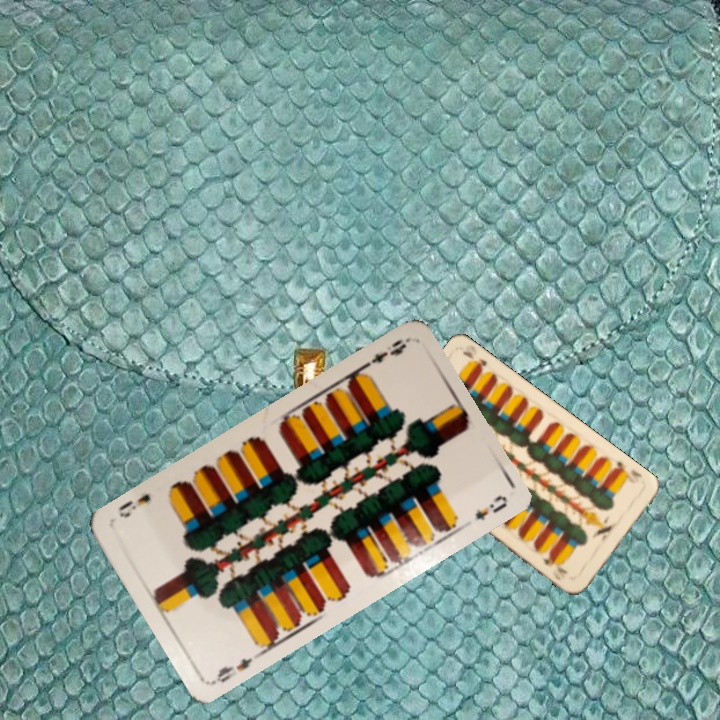E10: (609, 457, 645, 480)
E9: (357, 334, 410, 372), (208, 653, 255, 686)
